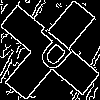P: (25, 25, 82, 80)
